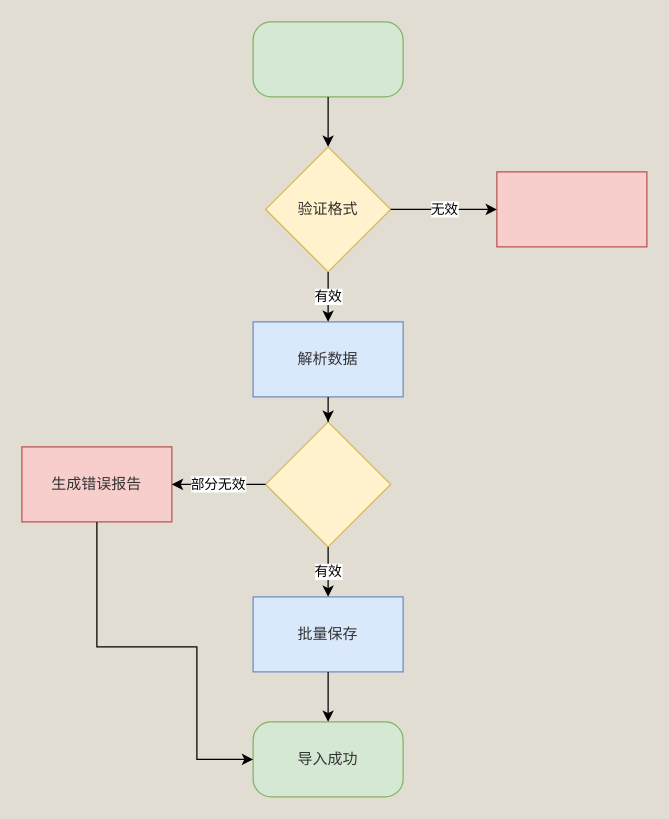
This 669x819 diagram has some shape labels left out. Here are the shapes that lost their labels. From the top down, the box of each, then its label:
(252, 21, 403, 97): 选择Excel文件
(496, 171, 647, 247): 提示错误
(264, 421, 391, 547): 验证数据
